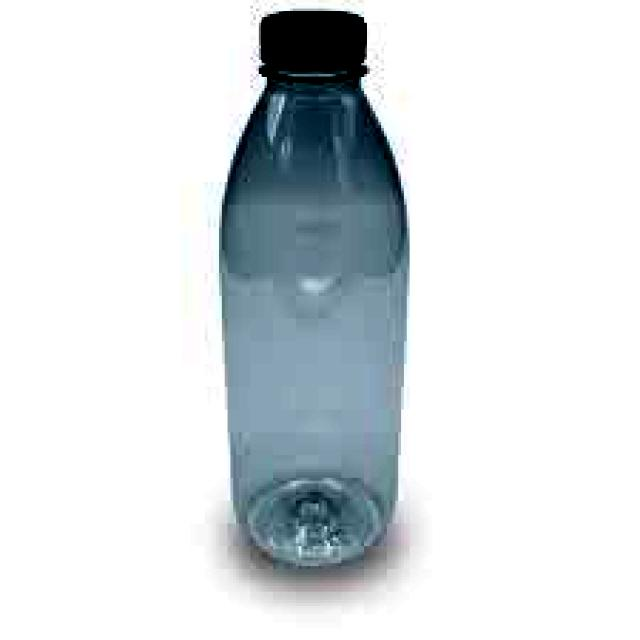Plastic: (210, 9, 413, 566)
